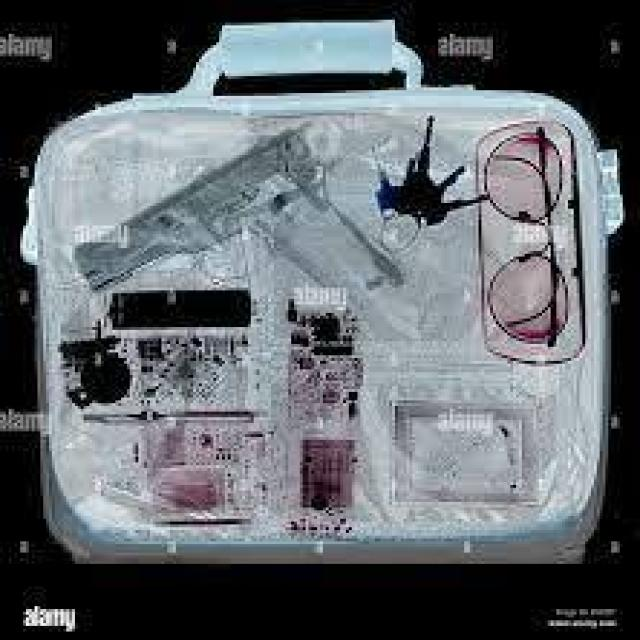pistol: (70, 123, 404, 304)
